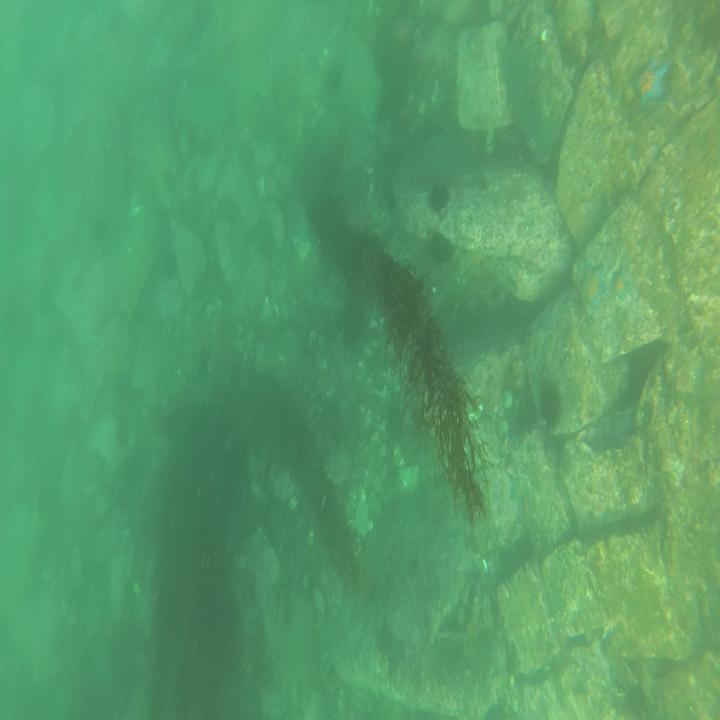echinus: (507, 386, 536, 440), (537, 377, 564, 428), (428, 229, 453, 267), (426, 180, 450, 213)
starfish: (633, 57, 670, 106), (577, 258, 605, 308), (609, 264, 629, 304)
